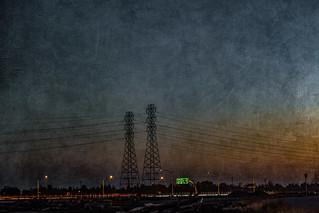power_tower: (141, 102, 168, 189), (118, 111, 140, 184)
